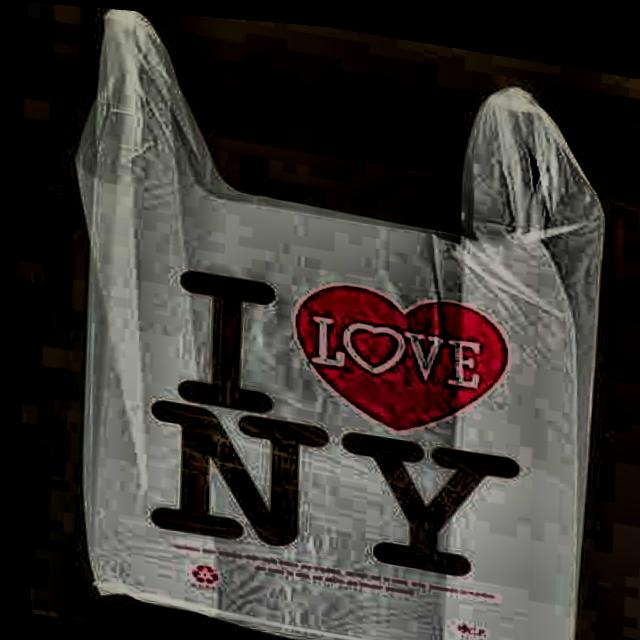Plastic: (6, 0, 640, 640)
